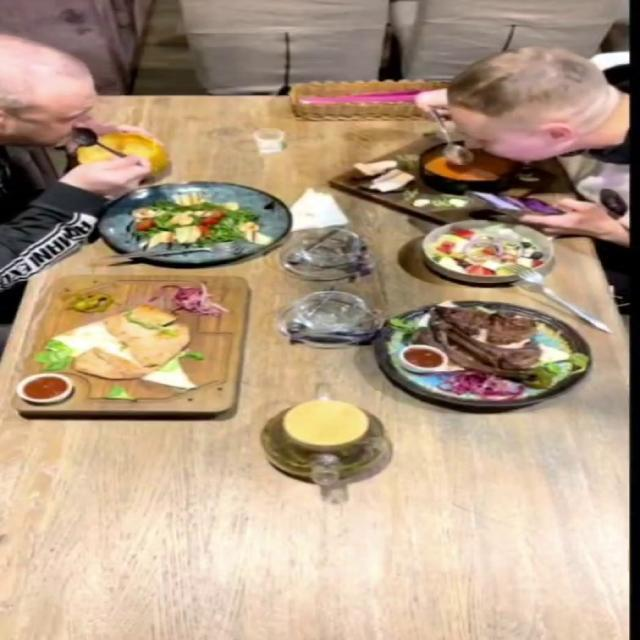meat: (10, 270, 258, 418), (376, 298, 596, 405)
salad: (94, 181, 288, 265), (420, 219, 554, 284)
soup: (76, 132, 168, 176), (424, 154, 504, 180)
tea: (249, 372, 402, 504)
